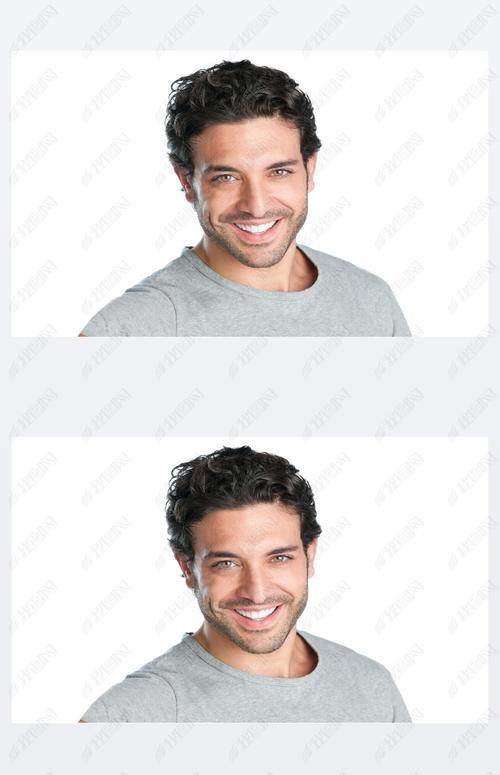nomask: (173, 75, 330, 270)
